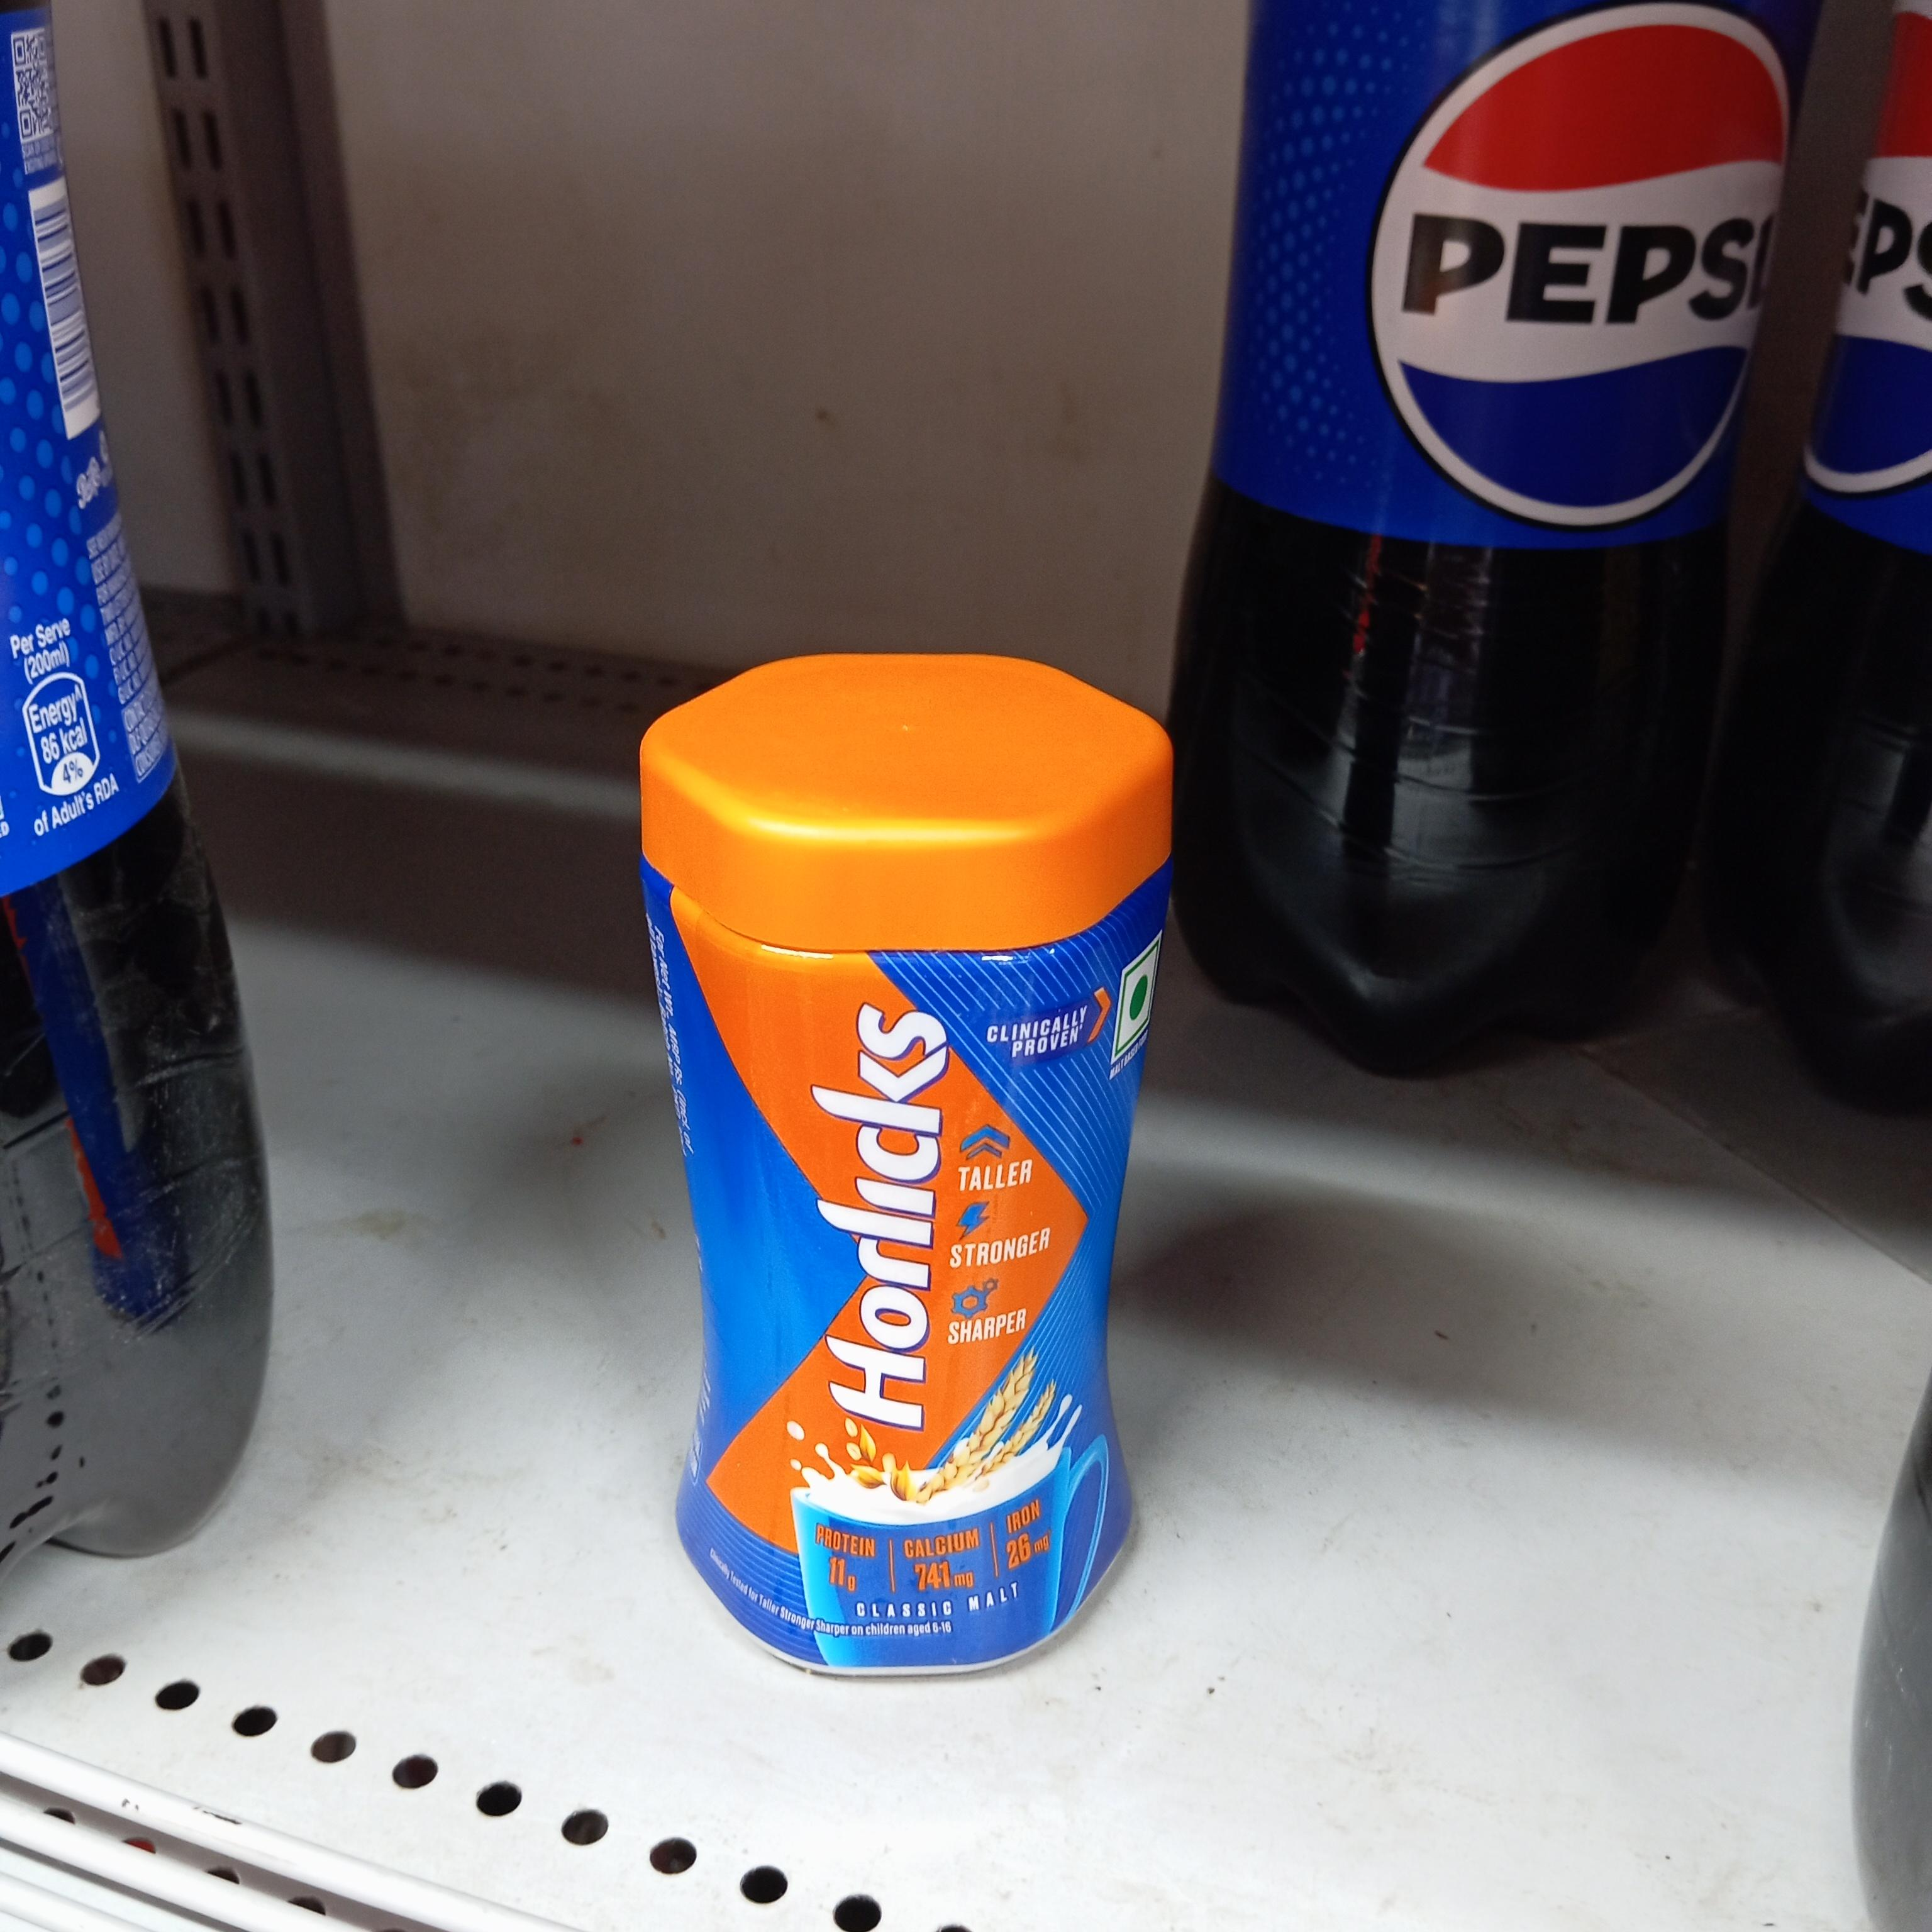HORLICK_CLASSIC_MALT_200_G_JAR: (648, 688, 1173, 1677)
